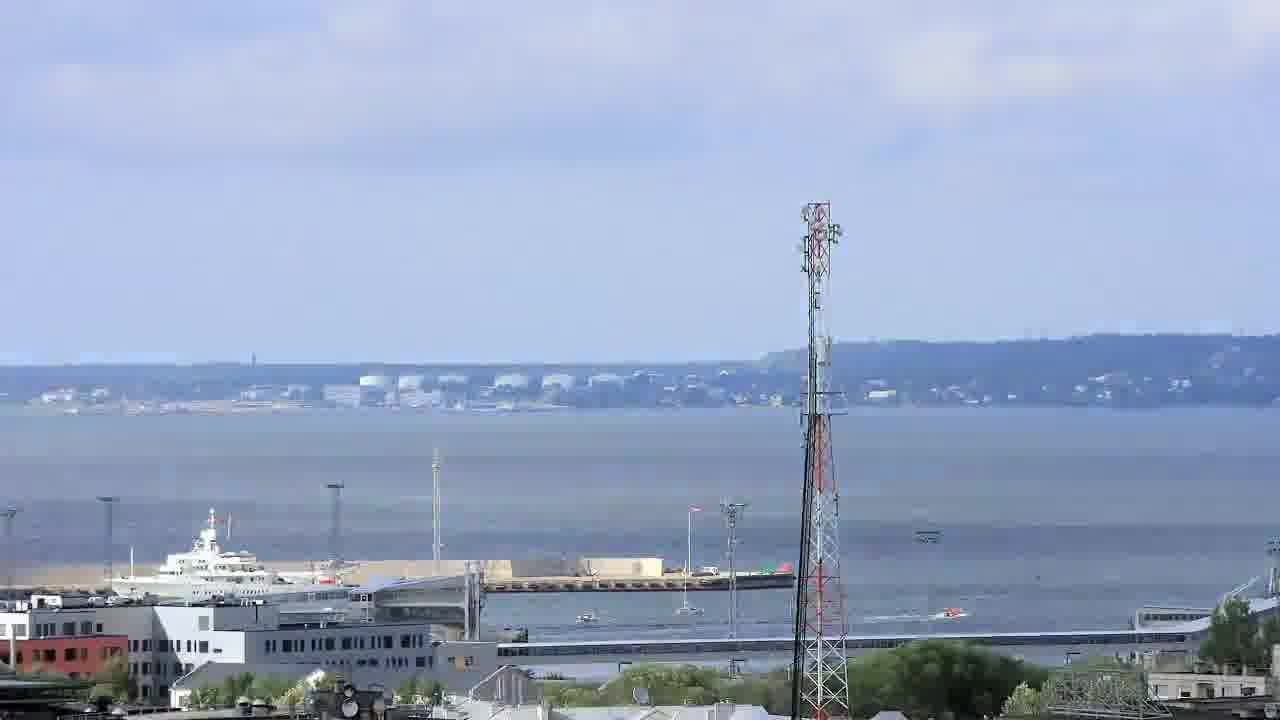type-0: (917, 585, 979, 627), (668, 572, 708, 622), (565, 595, 612, 632)
type-3: (72, 492, 370, 608)
